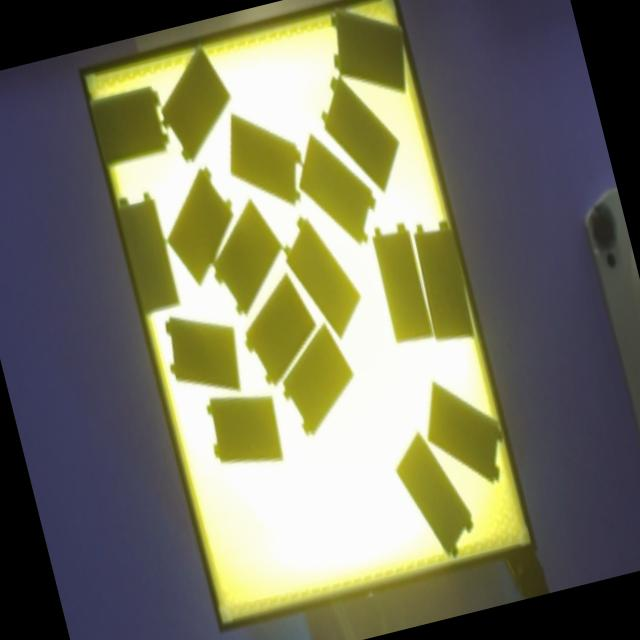bateria: (396, 431, 473, 556), (283, 215, 360, 338), (320, 76, 399, 192), (300, 133, 375, 243), (214, 198, 282, 314), (161, 46, 229, 161), (245, 275, 316, 385), (282, 325, 353, 434), (116, 193, 179, 315), (167, 168, 232, 285), (429, 381, 501, 482), (371, 223, 431, 342), (414, 220, 473, 337), (89, 84, 168, 167), (230, 113, 300, 205), (331, 9, 405, 94), (165, 315, 241, 390), (207, 396, 283, 461)
mesa: (78, 0, 537, 633)
